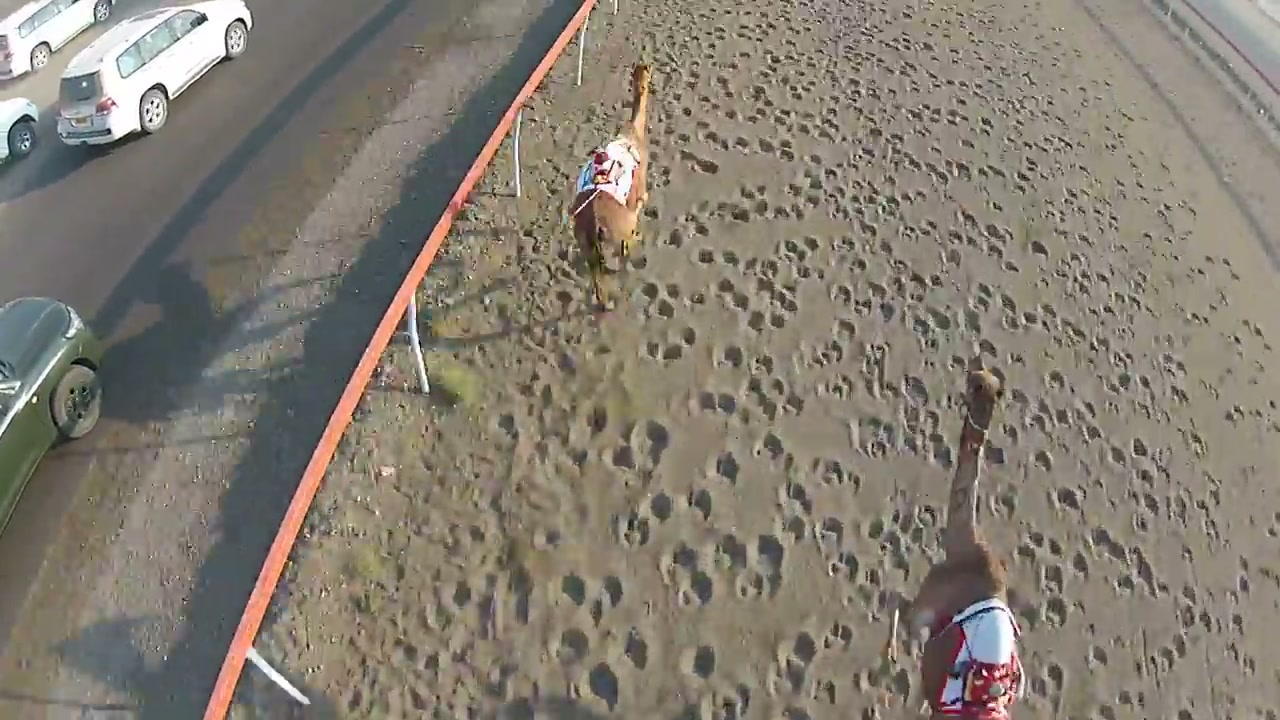animal_foot_print: (260, 0, 1279, 719)
